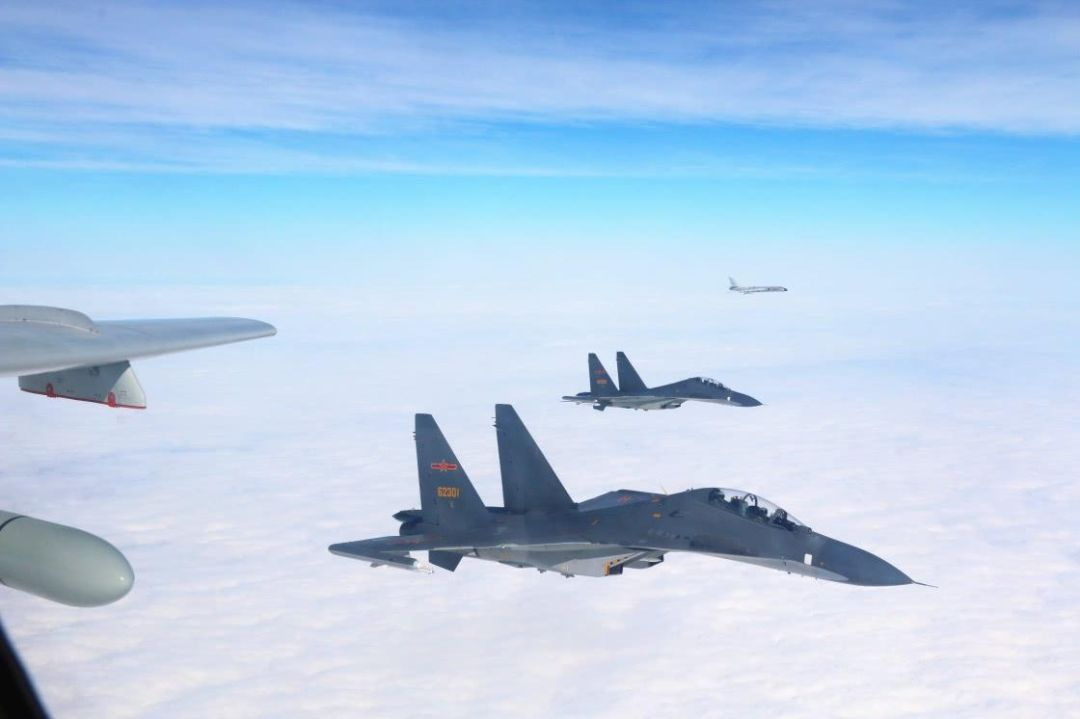airplane: (322, 400, 945, 594), (551, 344, 764, 416), (723, 274, 789, 299)
